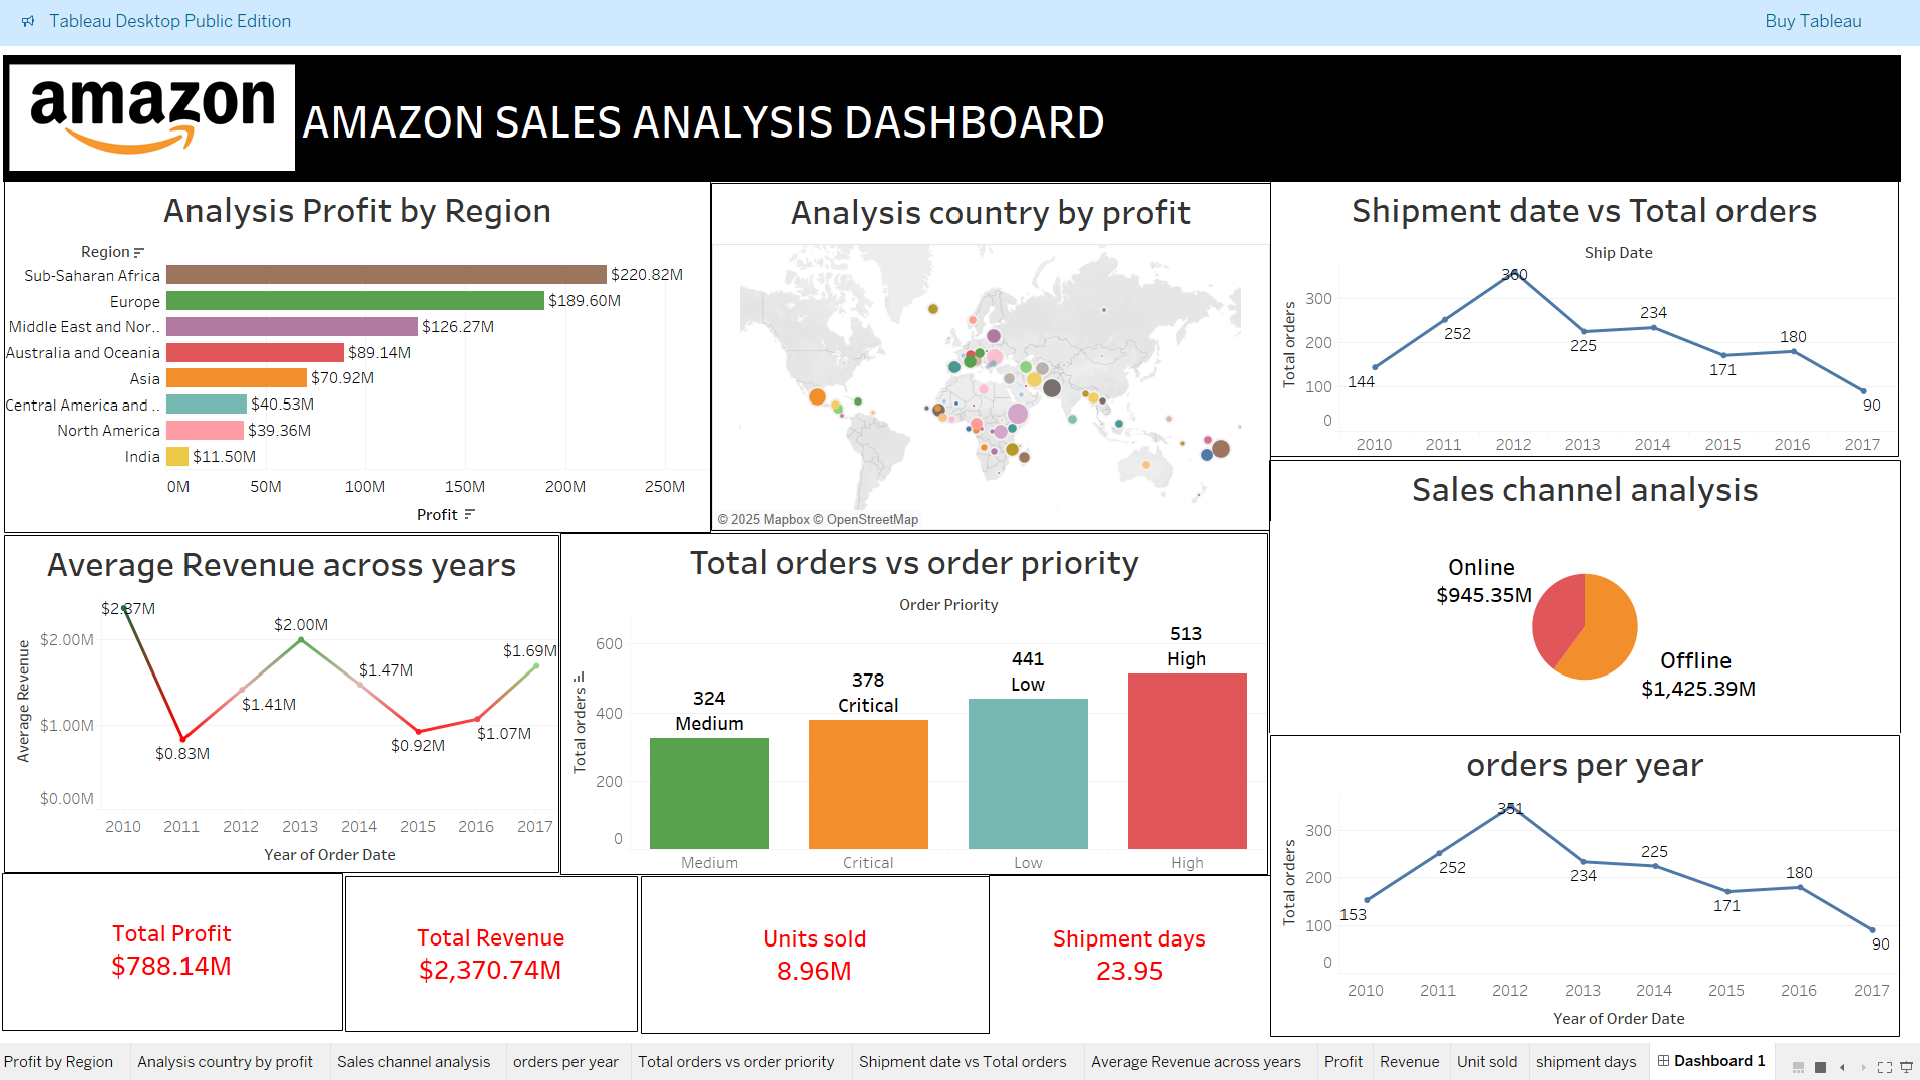

Layout of this report page (visuals, bound fields, positions):
{"tool":"tableau","page":{"name":"Dashboard 1","canvas":[1000,1000],"units":"permille","ordinal":0},"visuals":[{"type":"blank","box":[4.2,8.7,986.1,127.3]},{"type":"image","param":"C:/Users/HP/Videos/Captures/Tableau class/amazon.jpg","box":[6.6,12.5,149.7,119.9]},{"type":"text","box":[156.9,13.7,510,121.1]},{"type":"worksheet","title":"Analysis Profit by Region","mark":"Automatic","rows":["Region"],"cols":["Calculation_1320962069946097664"],"box":[4.8,134.8,366.9,353.3]},{"type":"worksheet","title":"Shipment date vs Total orders","mark":"Automatic","rows":["Calculation_1320962069951062017"],"cols":["Ship Date"],"box":[662.6,134.8,326.5,277.2]},{"type":"worksheet","title":"Analysis country by profit","mark":"Automatic","box":[371.7,137.3,291.1,349.6]},{"type":"worksheet","title":"Sales channel analysis","mark":"Pie","box":[662,414.5,328.3,274.7]},{"type":"worksheet","title":"Total orders vs order priority","mark":"Automatic","rows":["Calculation_1320962069951062017"],"cols":["Order Priority"],"box":[293.9,488.1,367.5,343.3]},{"type":"worksheet","title":"Average Revenue across years","mark":"Automatic","rows":["Calculation_1320962069958164482"],"cols":["Order Date"],"box":[4.8,490.6,288.5,339.6]},{"type":"worksheet","title":"orders per year","mark":"Automatic","rows":["Calculation_1320962069951062017"],"cols":["Order Date"],"box":[662.6,690.4,327.1,303.4]},{"type":"worksheet","title":"Profit","mark":"Automatic","box":[3.6,830.2,177.1,158.6]},{"type":"worksheet","title":"shipment days","mark":"Automatic","box":[516.1,831.5,146.8,159.8]},{"type":"worksheet","title":"Revenue","mark":"Automatic","box":[181.9,832.7,152.2,156.1]},{"type":"worksheet","title":"Unit sold","mark":"Automatic","box":[335.4,832.7,181.3,158.6]}]}

Visuals, with their boxes on the dashboard's canvas, which has no fixed pixel size, in thousandths of its width and height (x1, y1, x2, y2). These are canvas units, not pixel positions in the 1920x1080 screenshot, which may show the page scaled, cropped or inside an application window:
blank: bbox=(4, 9, 990, 136)
image: bbox=(7, 12, 156, 132)
text: bbox=(157, 14, 667, 135)
"Analysis Profit by Region" worksheet: bbox=(5, 135, 372, 488)
"Shipment date vs Total orders" worksheet: bbox=(663, 135, 989, 412)
"Analysis country by profit" worksheet: bbox=(372, 137, 663, 487)
"Sales channel analysis" worksheet (Pie marks): bbox=(662, 414, 990, 689)
"Total orders vs order priority" worksheet: bbox=(294, 488, 661, 831)
"Average Revenue across years" worksheet: bbox=(5, 491, 293, 830)
"orders per year" worksheet: bbox=(663, 690, 990, 994)
"Profit" worksheet: bbox=(4, 830, 181, 989)
"shipment days" worksheet: bbox=(516, 832, 663, 991)
"Revenue" worksheet: bbox=(182, 833, 334, 989)
"Unit sold" worksheet: bbox=(335, 833, 517, 991)
